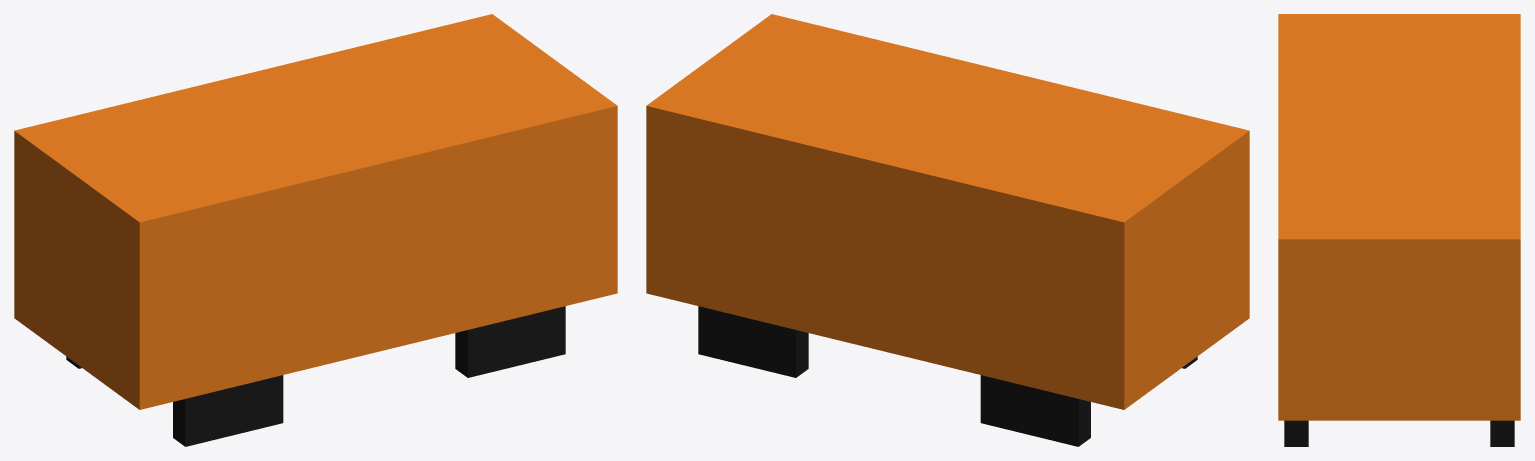
Rendered from blk_vehicle_uaz.glb.
3 views of the same model, side by side, from view 1: azimuth 30°, elevation 25°; view 2: azimuth 150°, elevation 25°; view 3: azimuth 270°, elevation 25° (orthographic). The views are drawn at different scales.
Parts seen in each view (by area): view 1: blk_vehicle_uaz-col; view 2: blk_vehicle_uaz-col; view 3: blk_vehicle_uaz-col.
Boxes of the visible parts, <box> form: blk_vehicle_uaz-col: <box>14,14,617,446</box>; blk_vehicle_uaz-col: <box>646,14,1249,446</box>; blk_vehicle_uaz-col: <box>1278,14,1520,446</box>.
Bounding box in the file's own units: 4.4 × 2.1 × 2.
